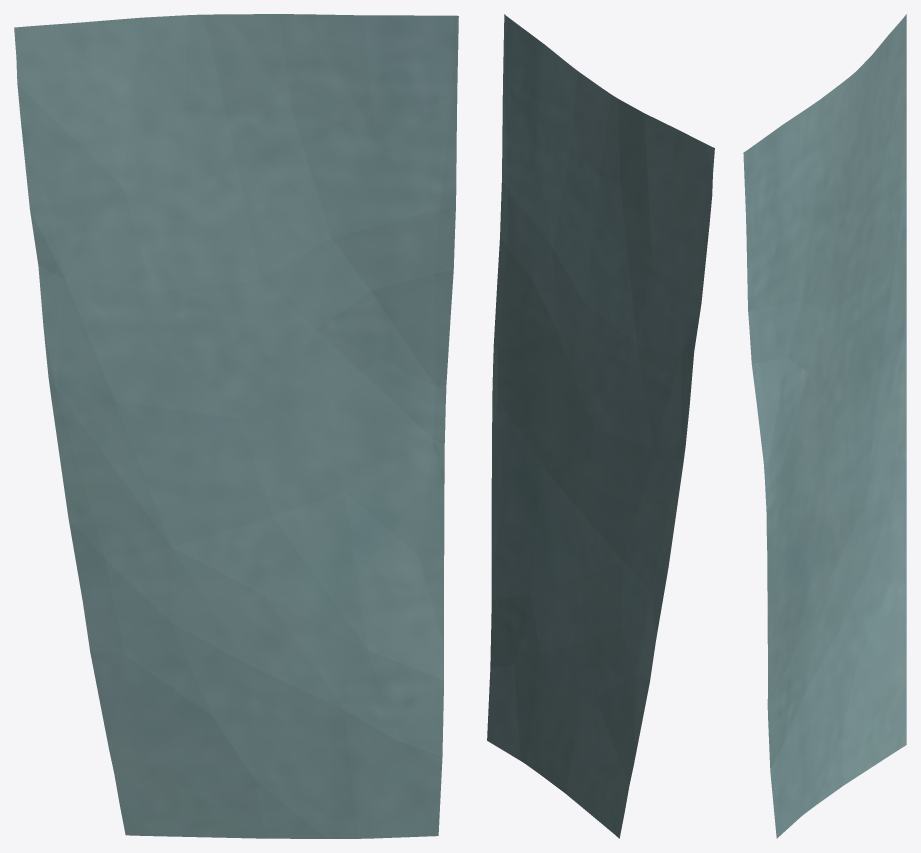
3 renders of one model, left to right at view 1: azimuth 30°, elevation 25°; view 2: azimuth 150°, elevation 25°; view 3: azimuth 270°, elevation 25°, orthographic. The views are drawn at different scales.
Bounding box in the file's own units: 37.13 × 85.74 × 18.47.
1 material, 1 textured.
